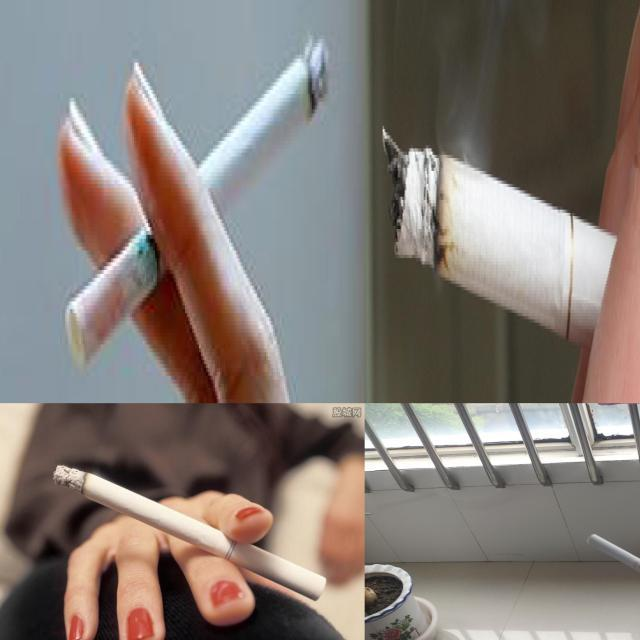cigarette: (60, 31, 332, 372), (380, 116, 602, 345), (53, 465, 328, 601), (587, 534, 640, 596)
